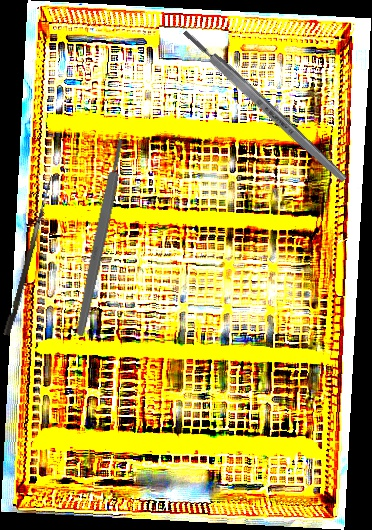Hook Surgical: (3, 173, 53, 337)
Scalpel Handle: (180, 26, 349, 186), (73, 137, 128, 337)
